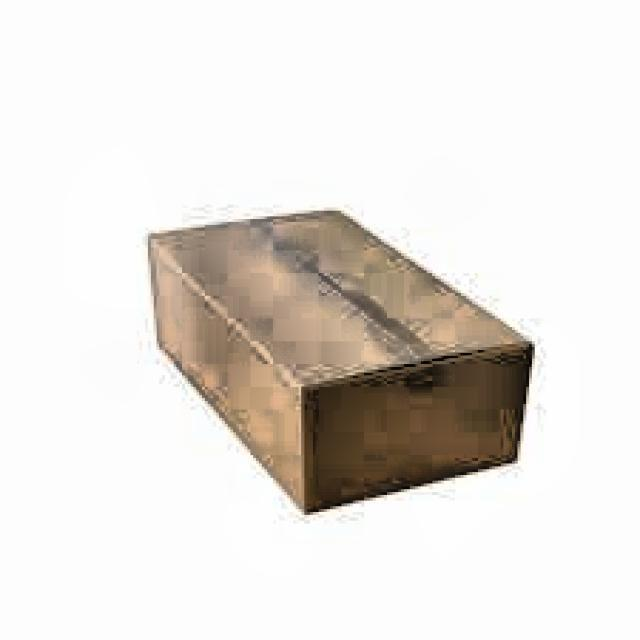cardboard: (145, 205, 535, 515)
